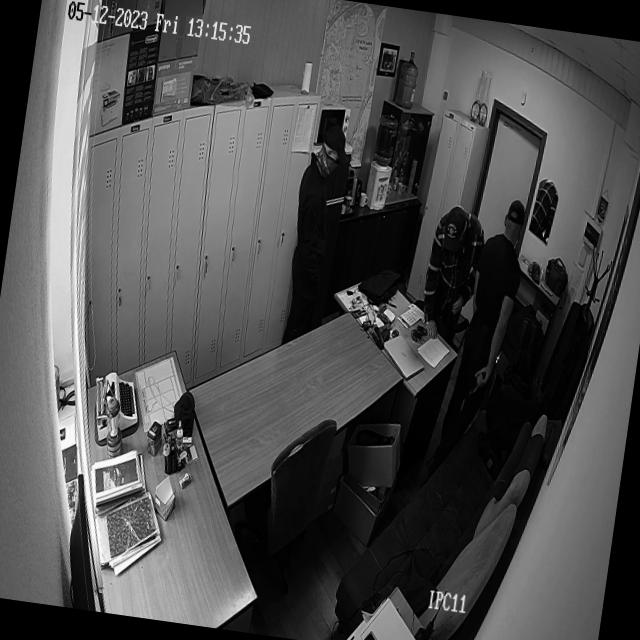gun: (464, 361, 492, 408)
person: (280, 120, 348, 342)
person with a gun: (428, 192, 531, 489), (420, 196, 490, 356)
